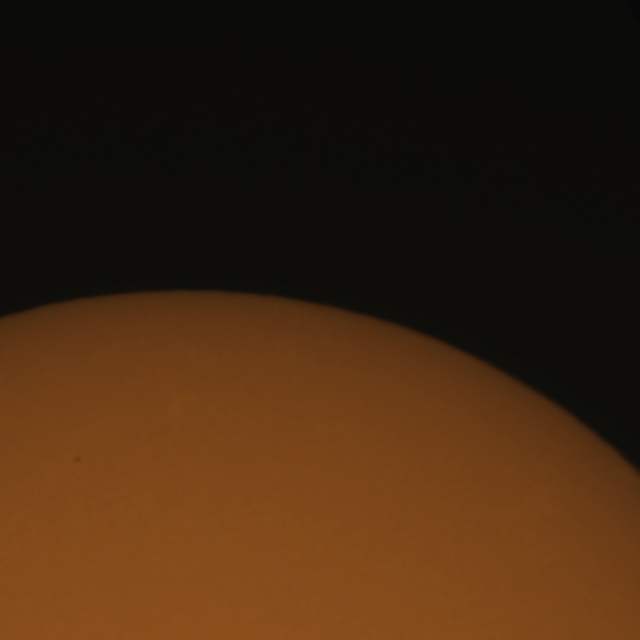sunspot: (72, 453, 83, 465)
